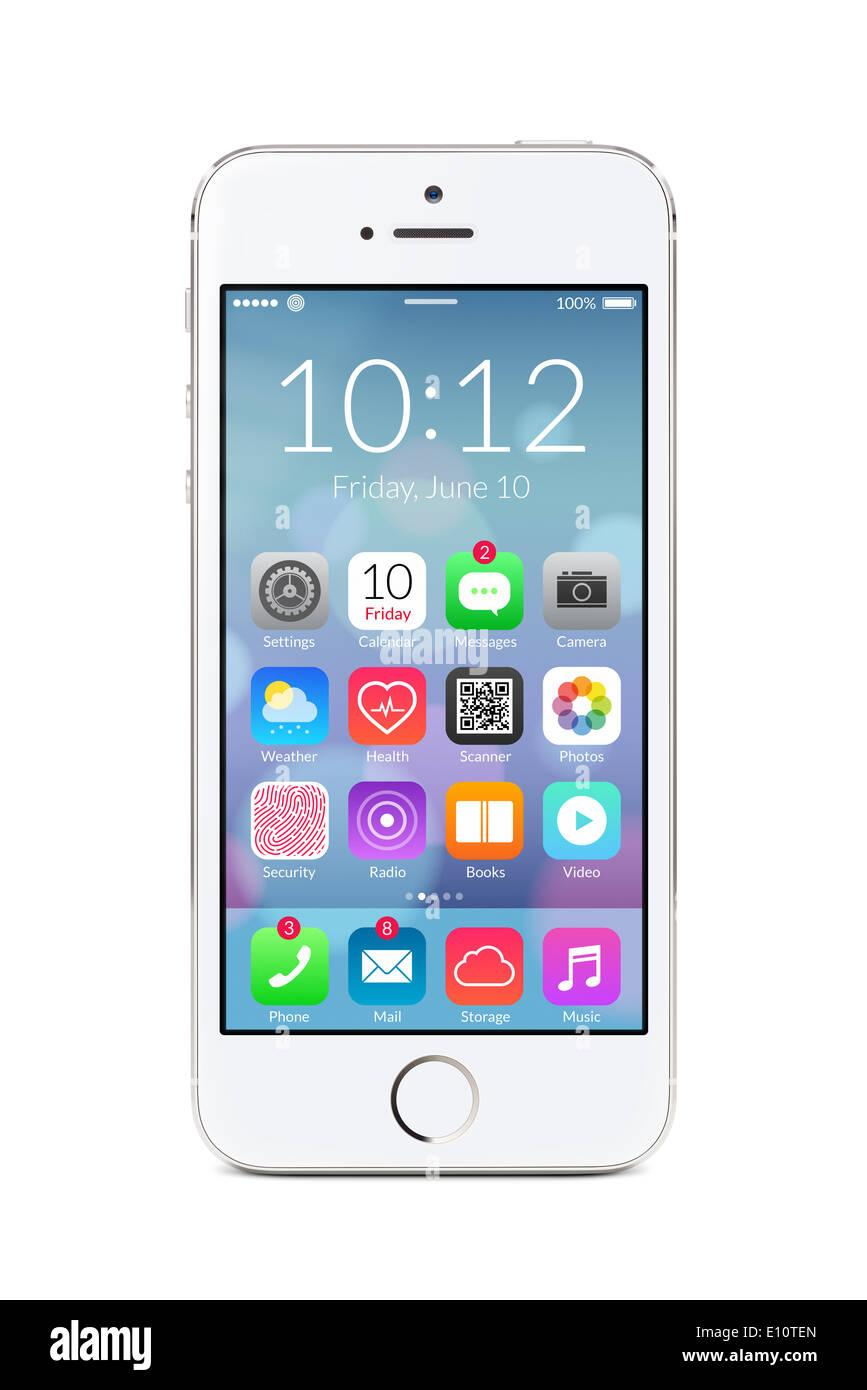Smart Phone: (185, 142, 680, 1181)
